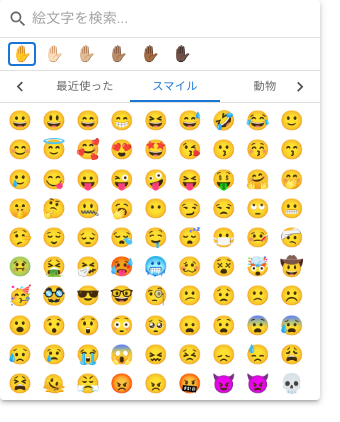
it: EmojiPicker 拡充機能 › 最近使った絵文字タブ › 直近で使用した絵文字が「最近使った」タブに表示される
The image size is (340, 422).
Note: 「最近使った」タブをクリック
Step 1. Click the tab "最近使った" → (85, 87), box top-left (40, 71), bottom-right (130, 103)
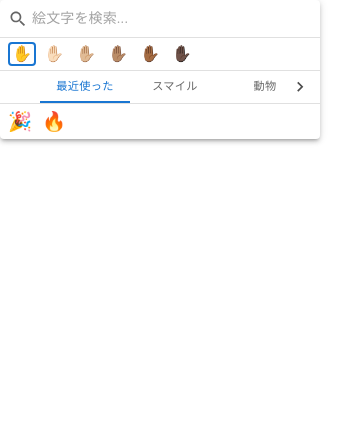
Expected: the button "🎉" is shown, top-left (4, 108), bottom-right (36, 135)
Expected: the button "🔥" is shown, top-left (38, 108), bottom-right (70, 135)
